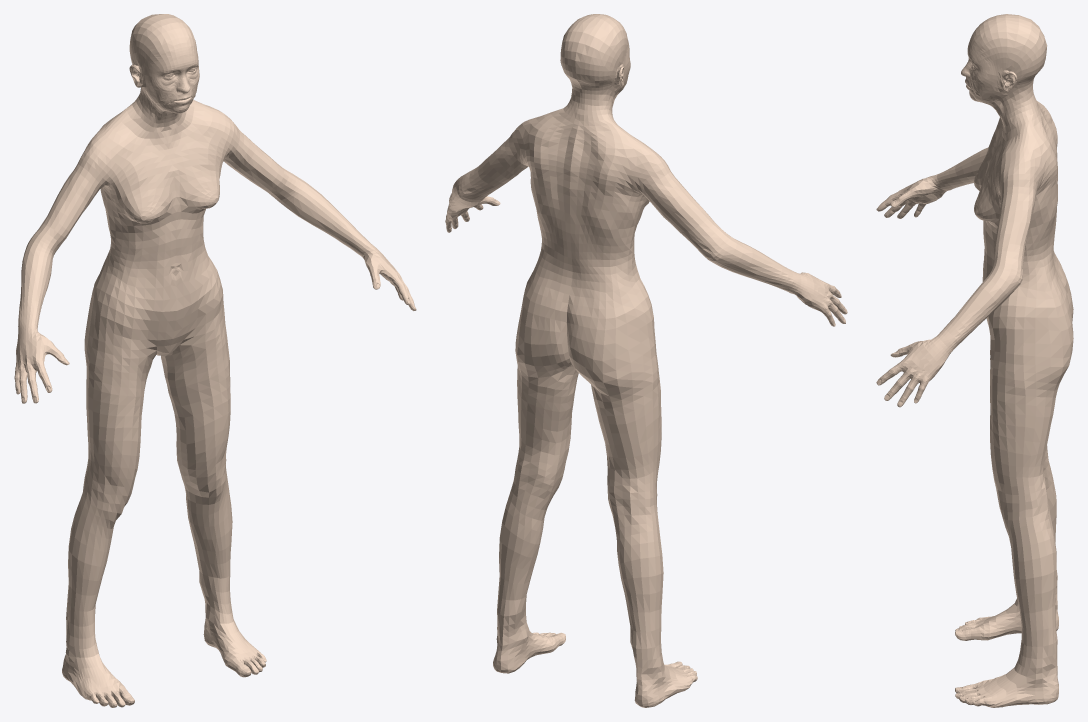
The model's file is female-older-lean-high.glb.
3 renders of one model, left to right at view 1: azimuth 30°, elevation 25°; view 2: azimuth 150°, elevation 25°; view 3: azimuth 270°, elevation 25°, orthographic.
Parts seen in each view (by area): view 1: world; view 2: world; view 3: world.
Boxes of the visible parts, <box> form: world: <box>14,14,416,707</box>; world: <box>445,14,847,707</box>; world: <box>876,14,1073,707</box>.
Bounding box in the file's own units: 1.13 × 1.8 × 0.4943.
